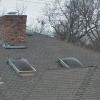Chimney: (1, 7, 30, 52)
